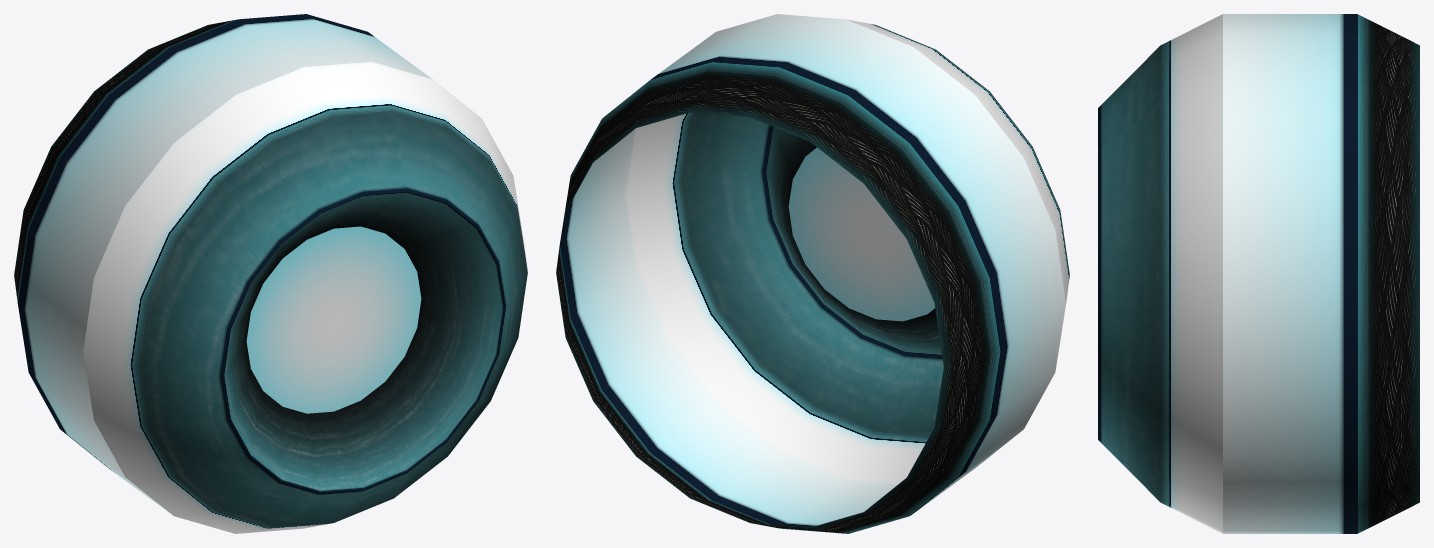
Rendered from M_Props_PointDisk_01.FBX.
3 views of the same model, side by side, from view 1: azimuth 30°, elevation 25°; view 2: azimuth 150°, elevation 25°; view 3: azimuth 270°, elevation 25° (orthographic). The views are drawn at different scales.
Parts seen in each view (by area): view 1: M_Porps_PointDisk_01; view 2: M_Porps_PointDisk_01; view 3: M_Porps_PointDisk_01.
Boxes of the visible parts, x1,y1,x2,y2 form: M_Porps_PointDisk_01: (14,14,527,533); M_Porps_PointDisk_01: (556,14,1069,533); M_Porps_PointDisk_01: (1098,14,1419,533).
Size of the model in its own units: 3.77 by 3.77 by 2.32.
